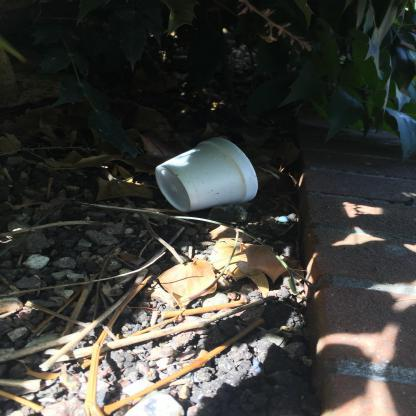kopuk: (155, 138, 261, 213)
